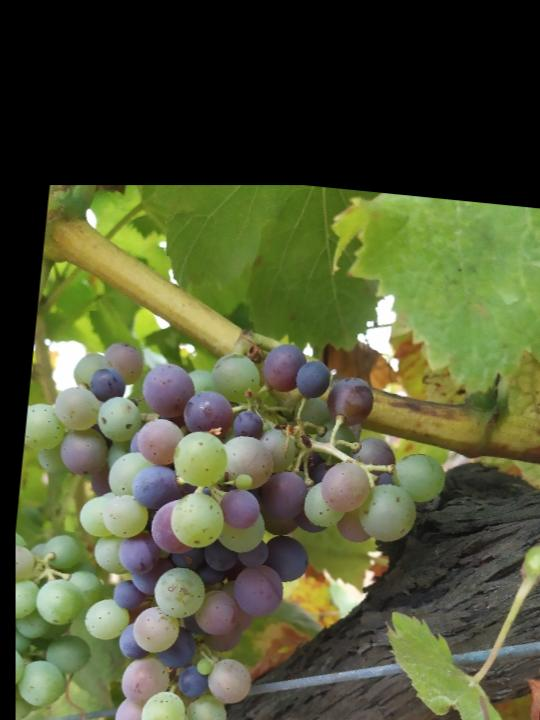grape: (0, 316, 460, 720)
